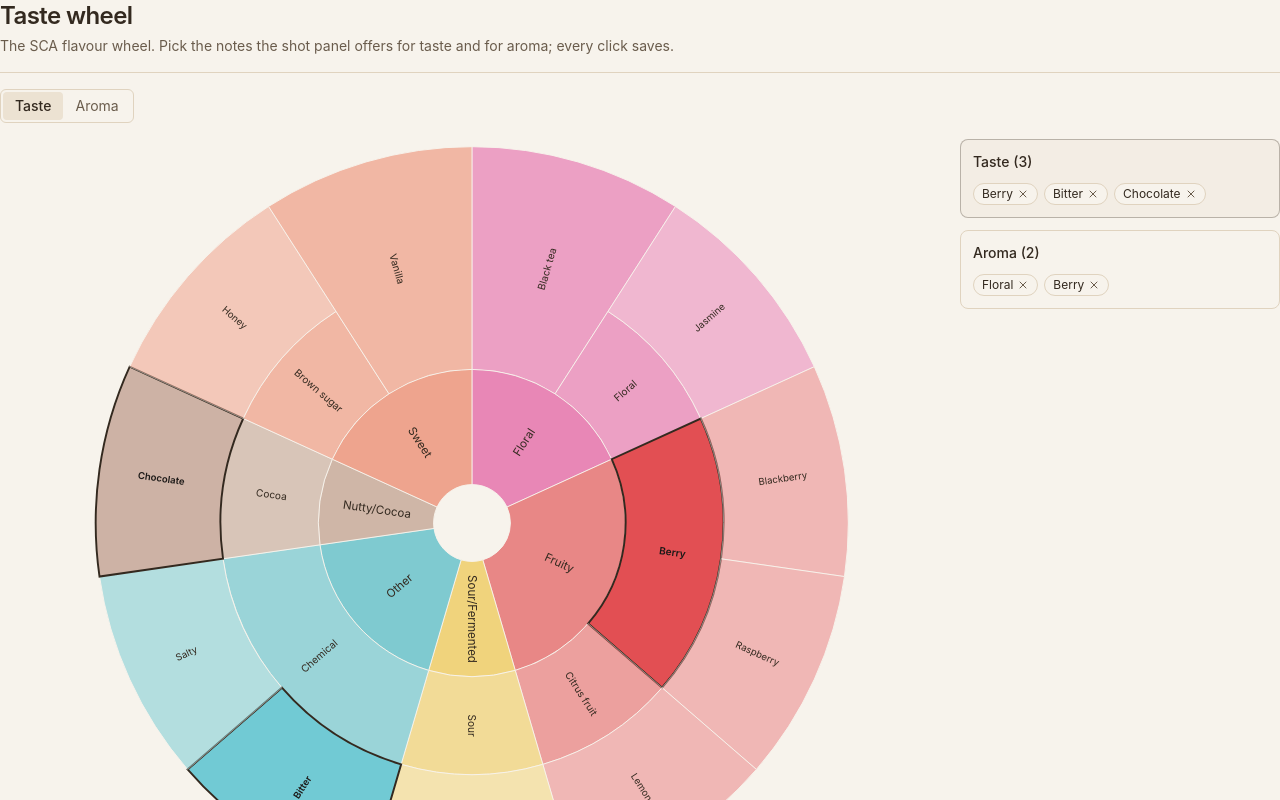
TasteWheelPage › edits the taste list until switched to aroma
Click the button "Aroma" at (97,106), box [64, 92, 131, 120]
(page scrolled)
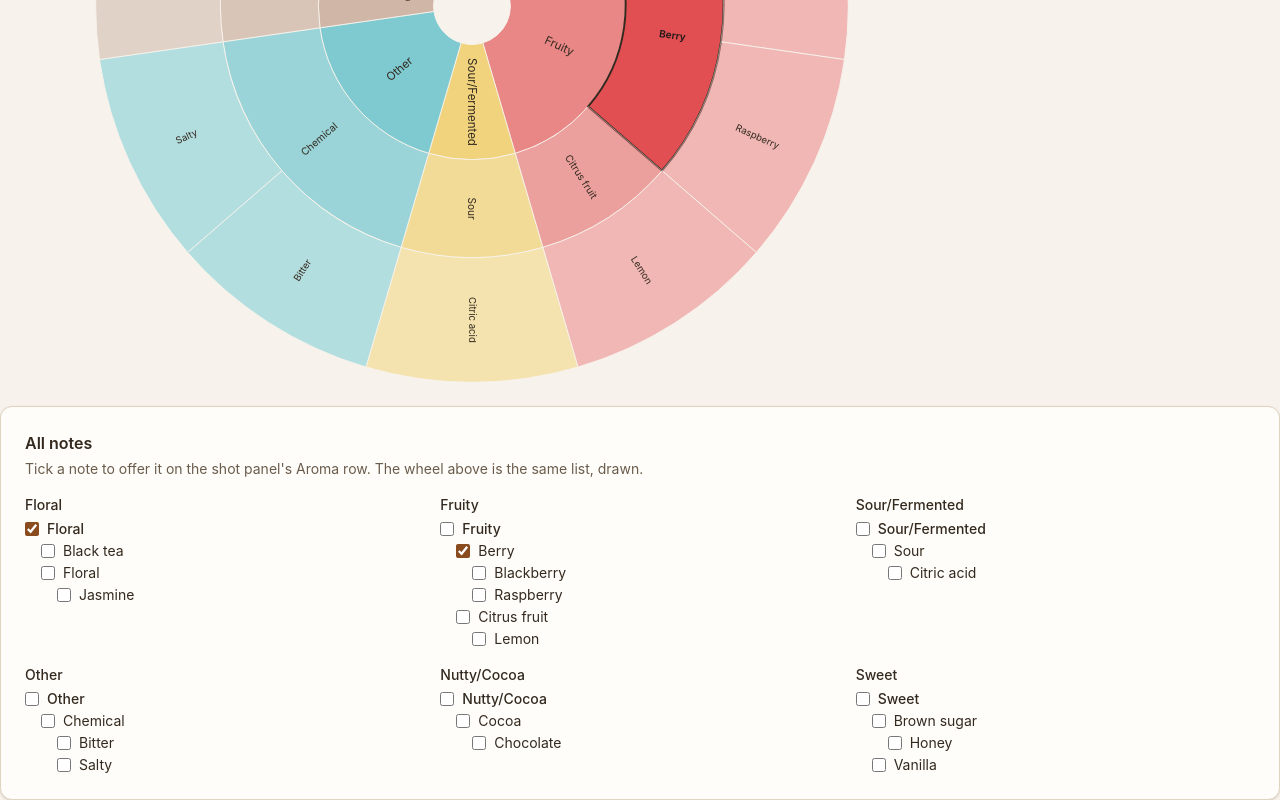
Check: the checkbox named "Floral › Floral" is not checked, box [41, 566, 55, 580]
Check: the 1st checkbox labelled "Floral" is checked, box [25, 522, 39, 536]
Check: the checkbox named "Other › Chemical › Bitter" is not checked, box [57, 736, 71, 750]
